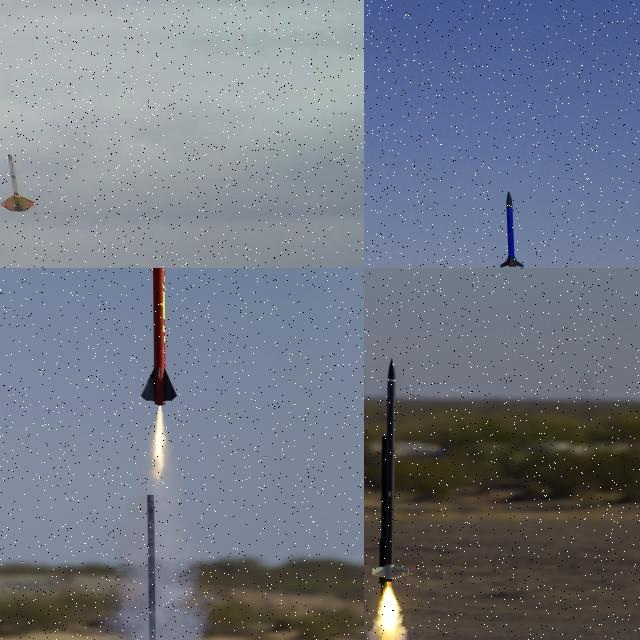Rocket: (372, 357, 411, 583), (141, 268, 178, 406), (498, 191, 525, 268), (0, 153, 35, 211)
